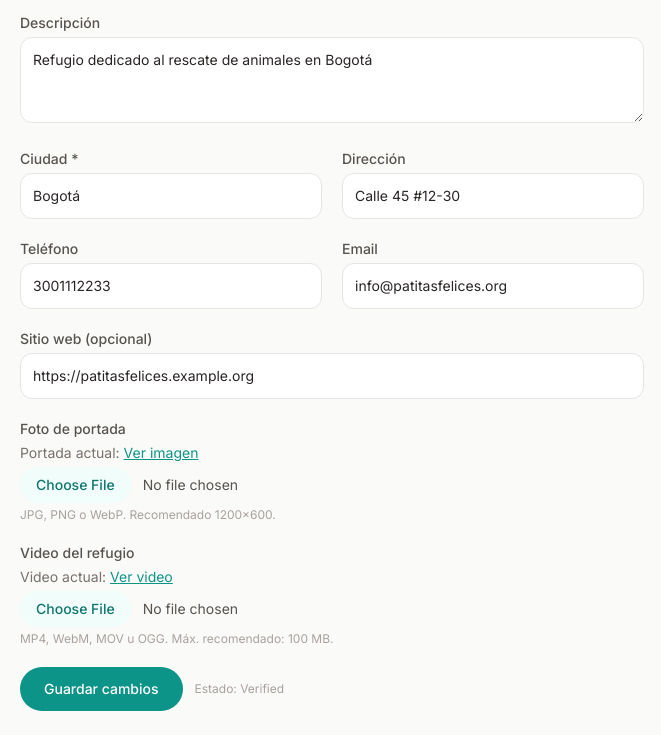
Scenario: ShelterConfigPage › clears success message when form field is edited after save
(page scrolled)
Click the button "Guardar cambios".
click(101, 689)  # box [20,667,182,711]
(page scrolled)
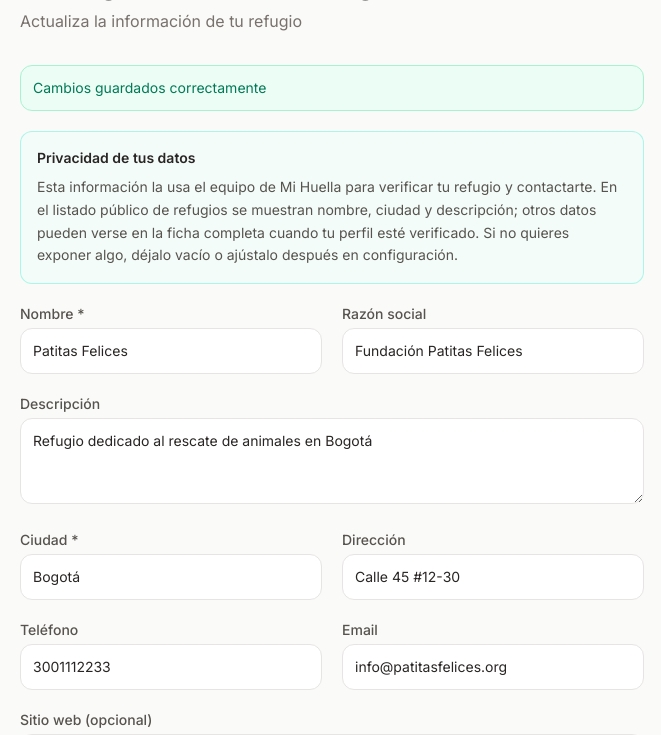
Expected: the text "Cambios guardados correctamente" is shown, [20,65,644,111]
Type "x" into the field showing "Patitas Felices".
click(171, 351); type("x")  # box [20,328,322,374]
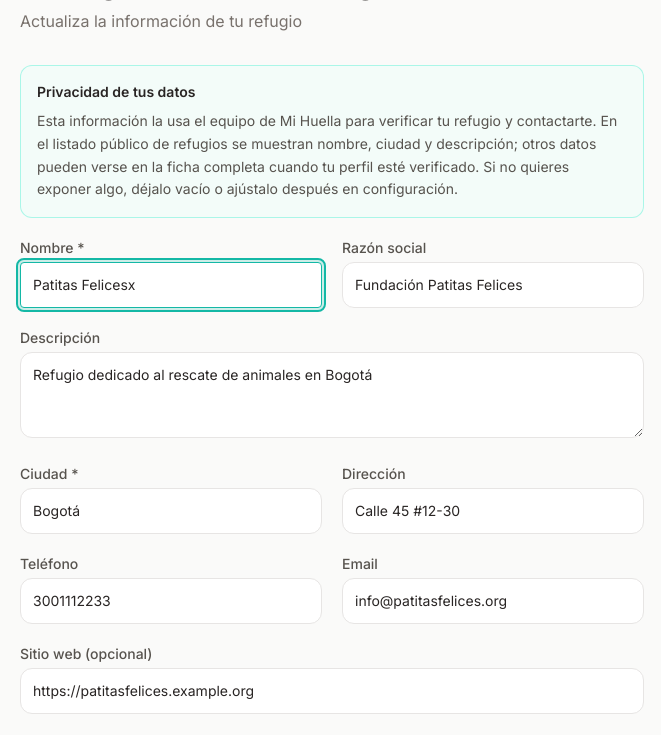
Expected: the text "guardados correctamente" is gone
